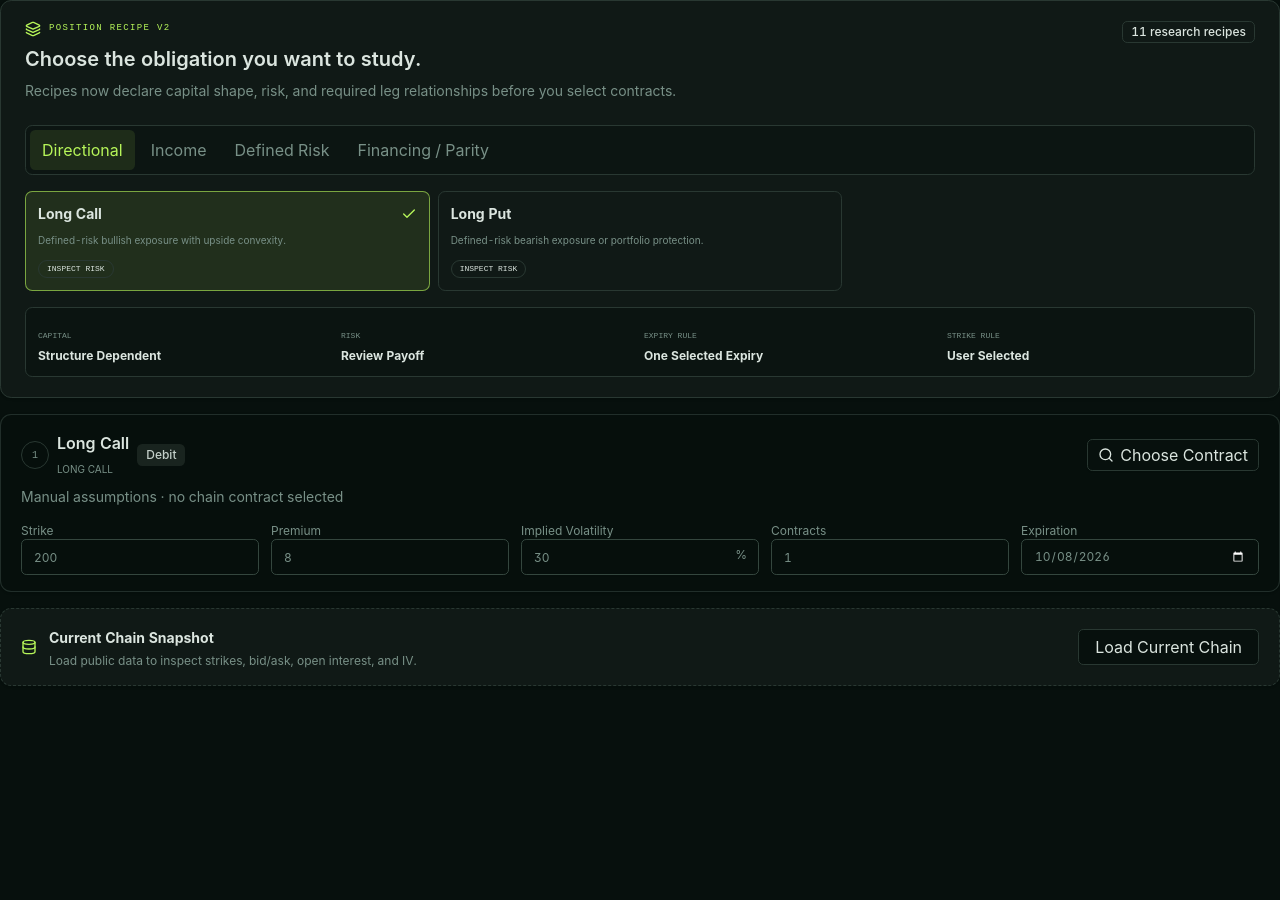
Test case: Option Lab position builder › replaces the leg canvas when a different recipe is selected
Expected: the number field named "Leg 1 strike" is shown, [21,539,259,575]
Click the tab "Defined Risk": (282, 150) [222,130,342,170]
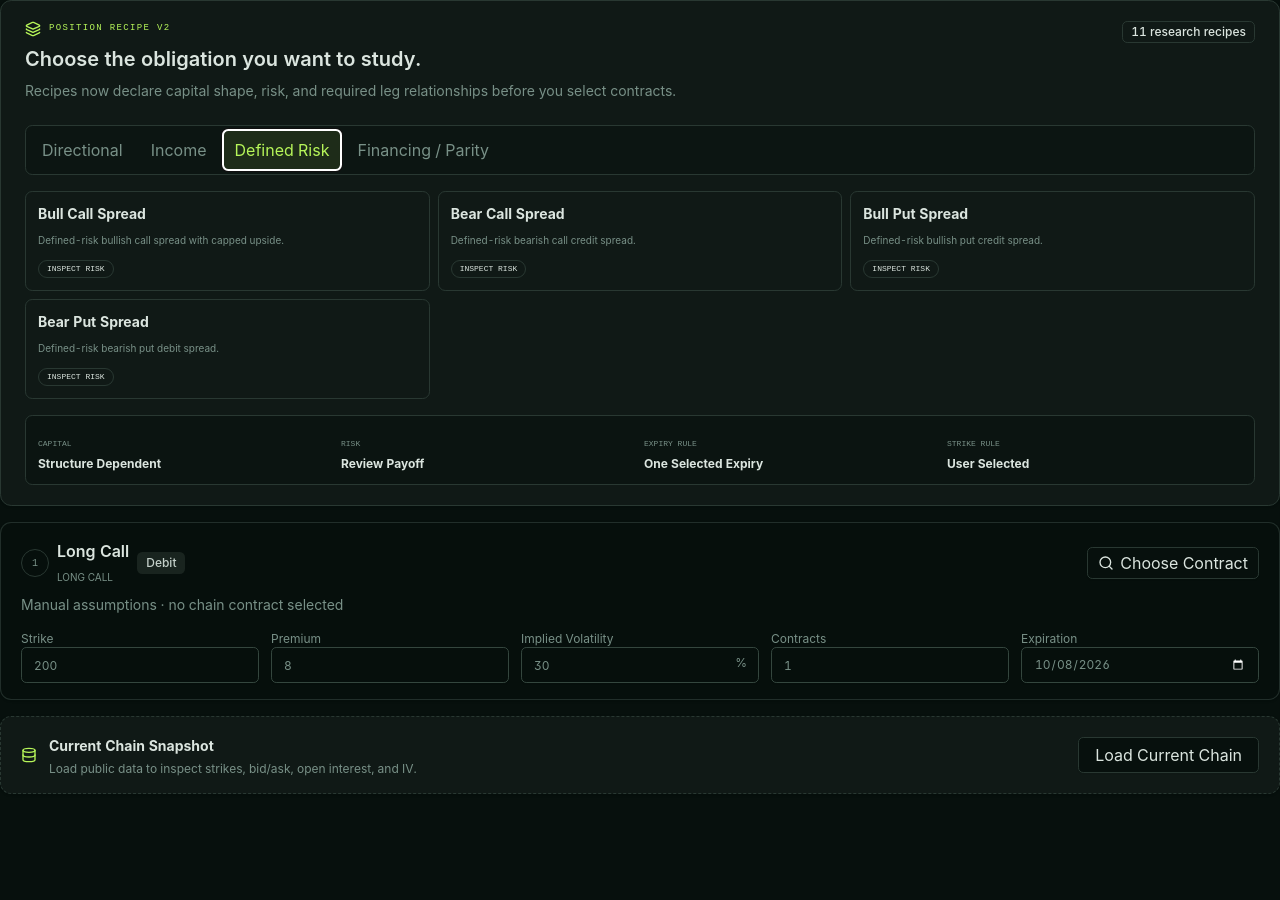
Click the button "Bull Call Spread": (227, 241) [25,191,430,291]
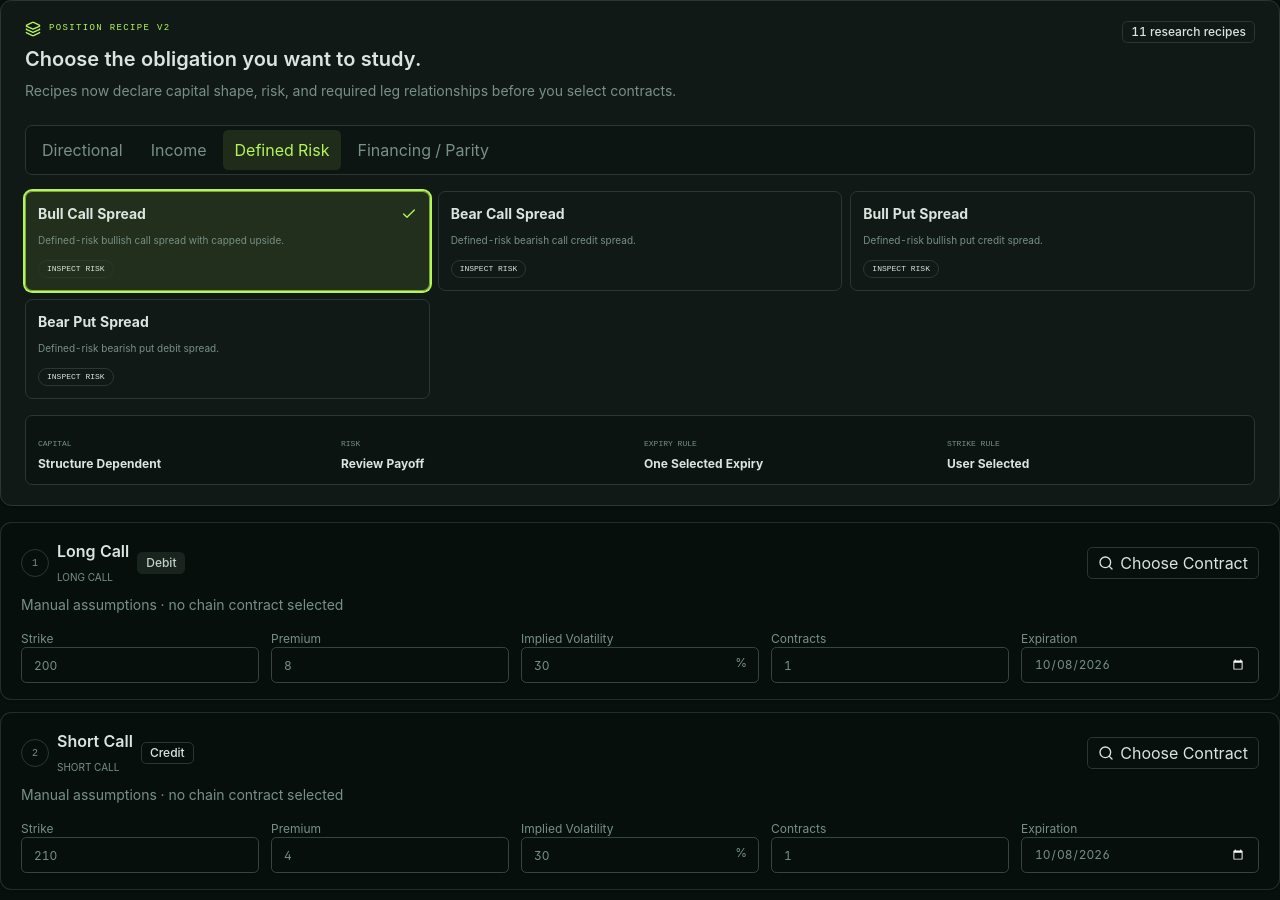
Result: the number field named "Leg 2 strike" is shown at [21,837,259,873]
Click the tab "Income": (179, 150) [139,130,218,170]
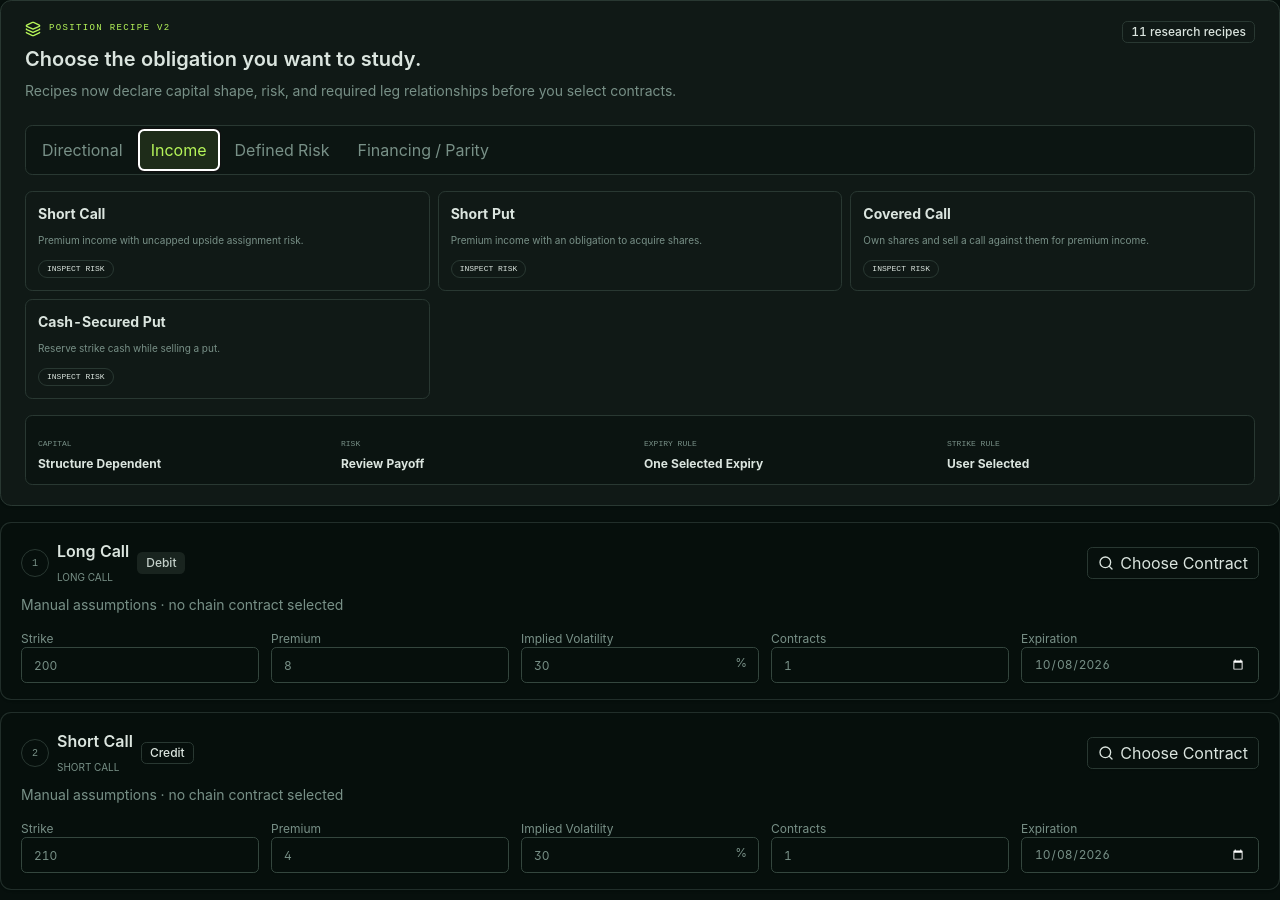
Click the button "Covered Call": (1053, 241) [850,191,1255,291]
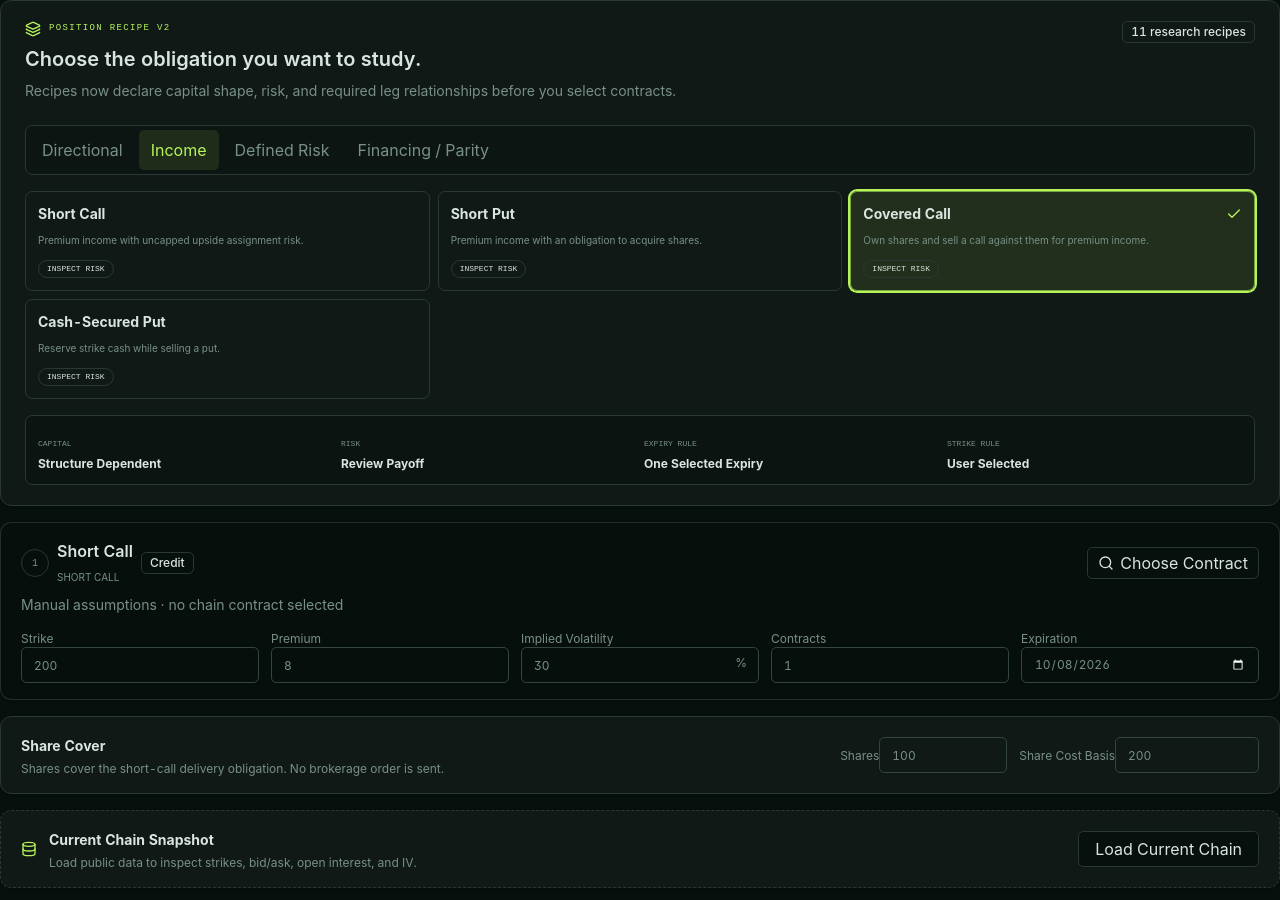
Result: the number field named "Covered shares" holds "100" at [879,737,1007,773]
